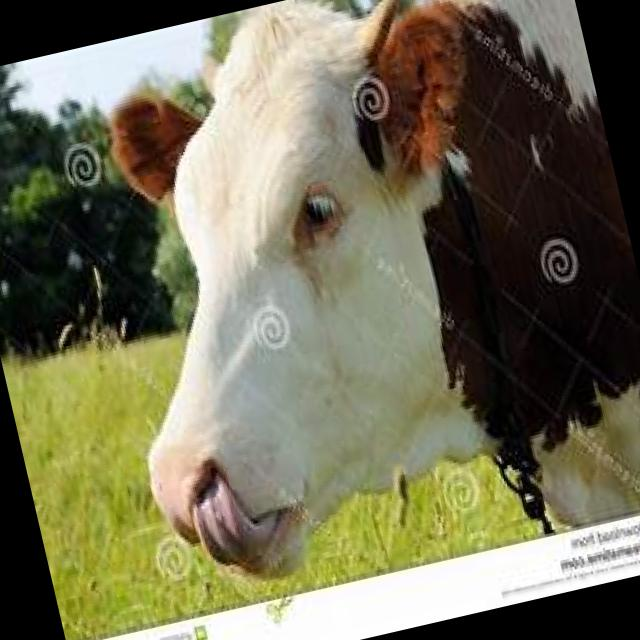cow: (50, 0, 640, 618)
